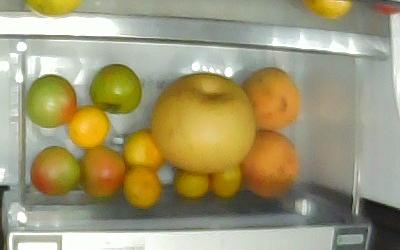peach: (237, 128, 297, 197), (239, 66, 299, 130)
pear: (150, 72, 256, 172)
tangerine: (120, 128, 164, 171), (67, 104, 109, 148), (121, 164, 162, 208), (209, 163, 242, 198), (172, 169, 210, 198)
tomato: (88, 62, 142, 114), (25, 73, 76, 127), (77, 143, 127, 198), (29, 144, 81, 195)
